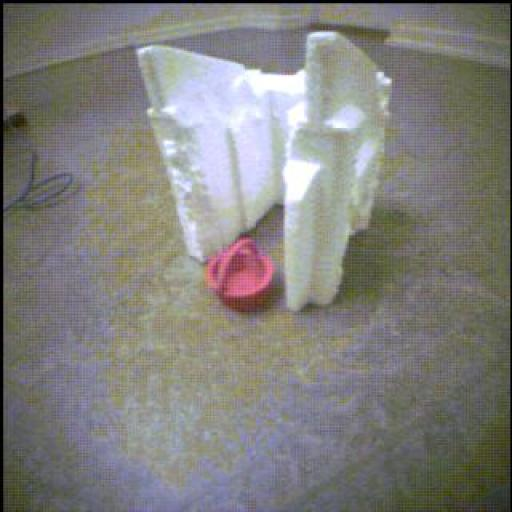Bucket: (206, 238, 275, 313)
